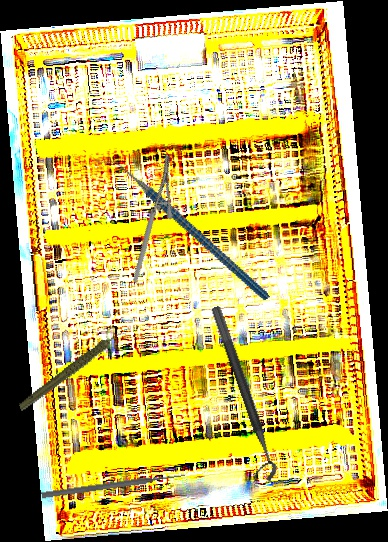Chopper: (95, 118, 271, 340)
Fixation Ring: (196, 305, 281, 487)
Handpiece: (7, 329, 139, 413)
Needle Holder: (96, 153, 206, 284)
Pusher: (41, 470, 186, 501)
